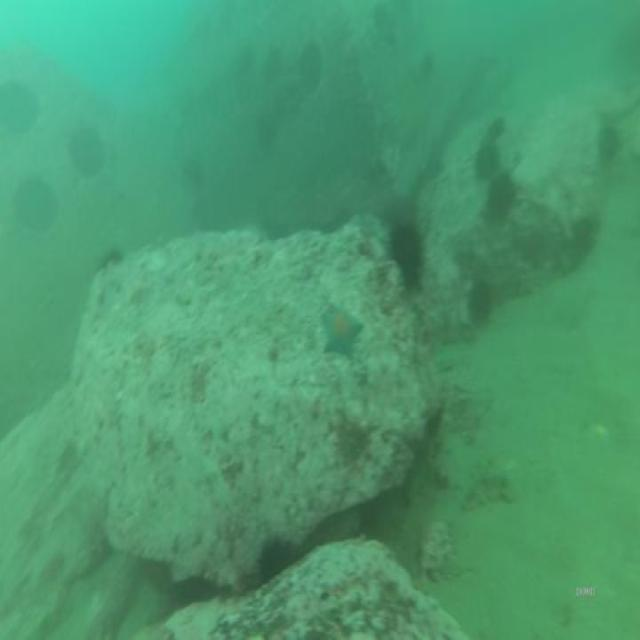echinus: (387, 212, 433, 297), (485, 171, 519, 226), (466, 274, 496, 326), (473, 136, 503, 180), (597, 118, 624, 166)
starfish: (320, 299, 364, 362)
